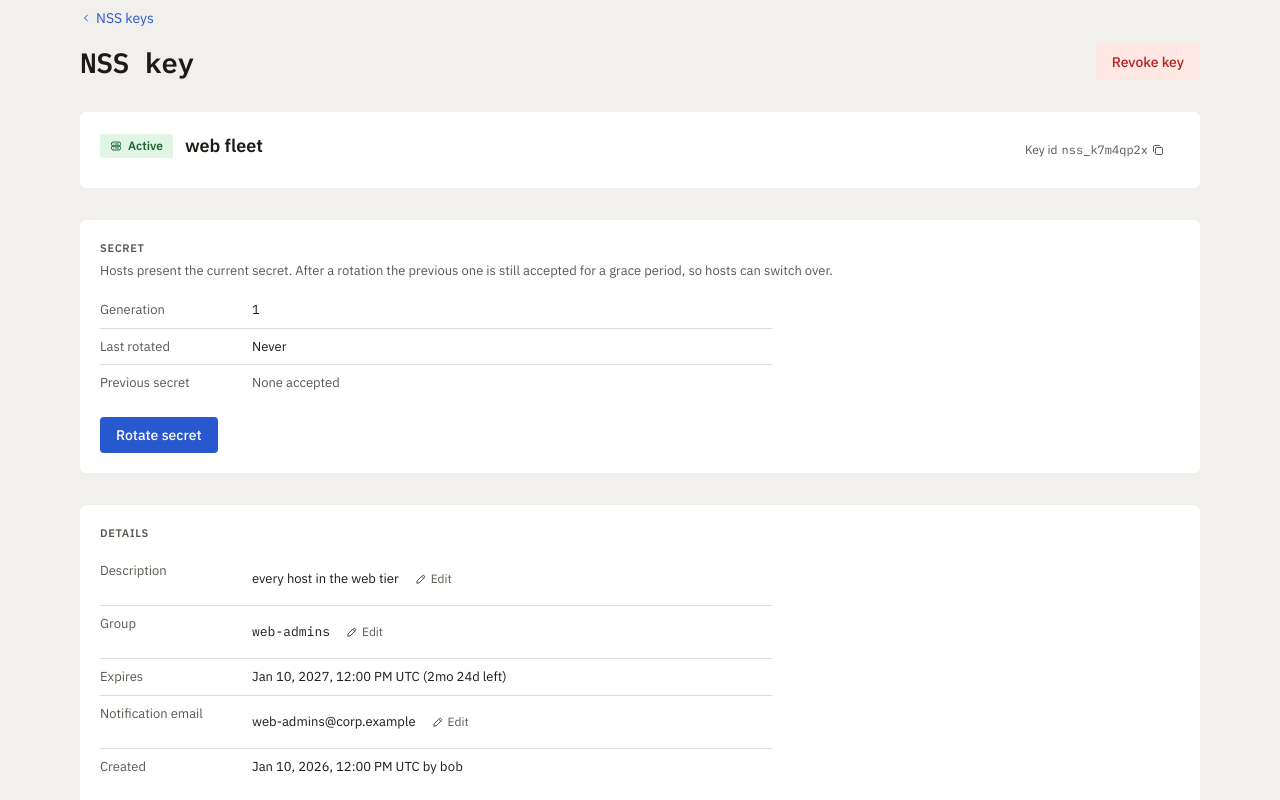
Test: NSS key detail › revoke › should hold Revoke key until the key id is typed
The width and height of the screenshot is (1280, 800).
Expected: the element with test id "nss-key-identity" is shown, [80,112,1200,188]
Click the button with test id "nss-key-revoke".
click(1148, 62)  # box [1096,44,1200,80]
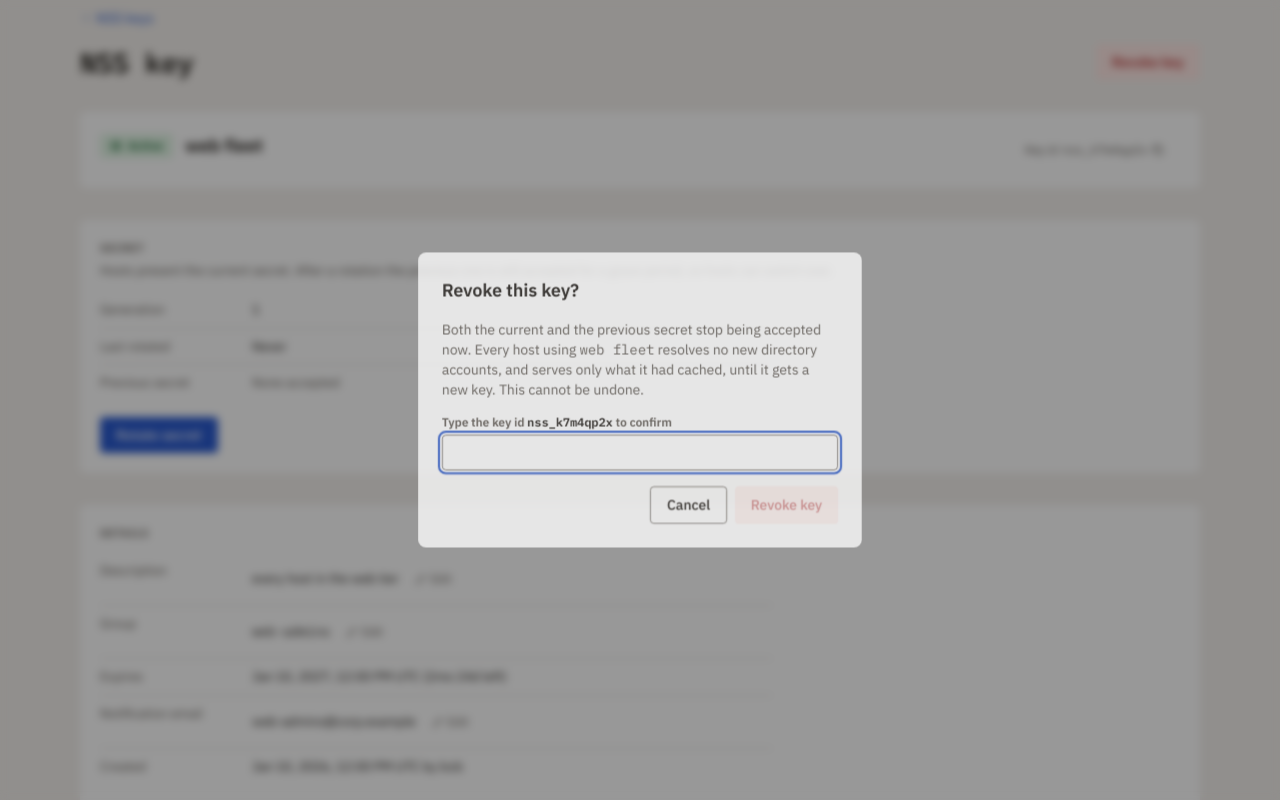
Now the button with test id "nss-key-revoke-confirm" is disabled, box [736,487,840,525]
